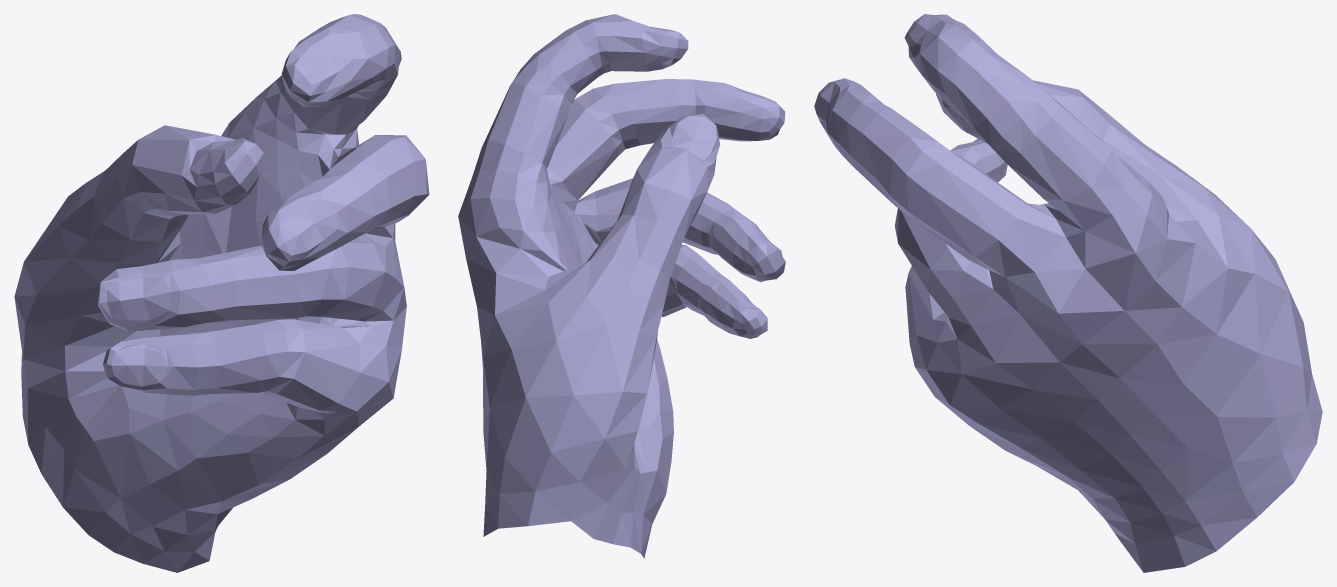
The model's file is hand_0031.glb.
3 renders of one model, left to right at view 1: azimuth 30°, elevation 25°; view 2: azimuth 150°, elevation 25°; view 3: azimuth 270°, elevation 25°, orthographic. The views are drawn at different scales.
Visible parts, largest first — view 1: world; view 2: world; view 3: world.
Part boxes in pixels (x1,y1,x2,y2): world: (14,14,429,572); world: (458,14,785,558); world: (814,14,1322,572).
Bounding box in the file's own units: 0.0855 × 0.1463 × 0.1213.
